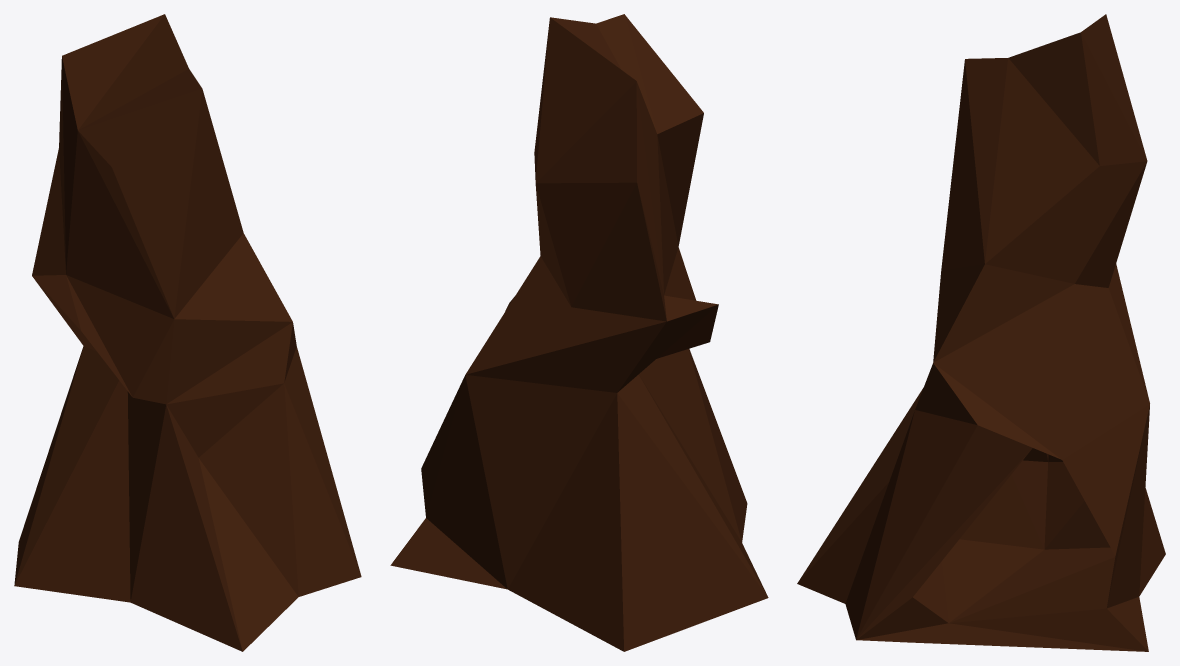
File: fox hole.fbx
3 renders of one model, left to right at view 1: azimuth 30°, elevation 25°; view 2: azimuth 150°, elevation 25°; view 3: azimuth 270°, elevation 25°, orthographic. The views are drawn at different scales.
Parts seen in each view (by area): view 1: foxhole; view 2: foxhole; view 3: foxhole.
Part boxes in pixels (bbox=[...]): foxhole: bbox=[14, 14, 361, 651]; foxhole: bbox=[390, 14, 768, 651]; foxhole: bbox=[797, 14, 1165, 651].
Size of the model in its own units: 18.42 by 31.96 by 18.45.
